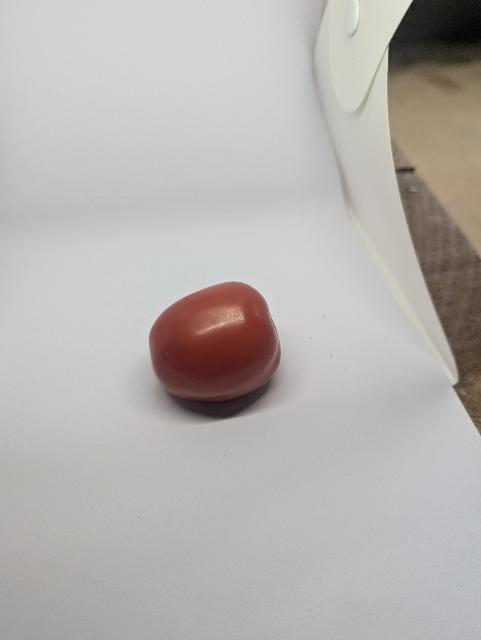red: (141, 267, 294, 415)
